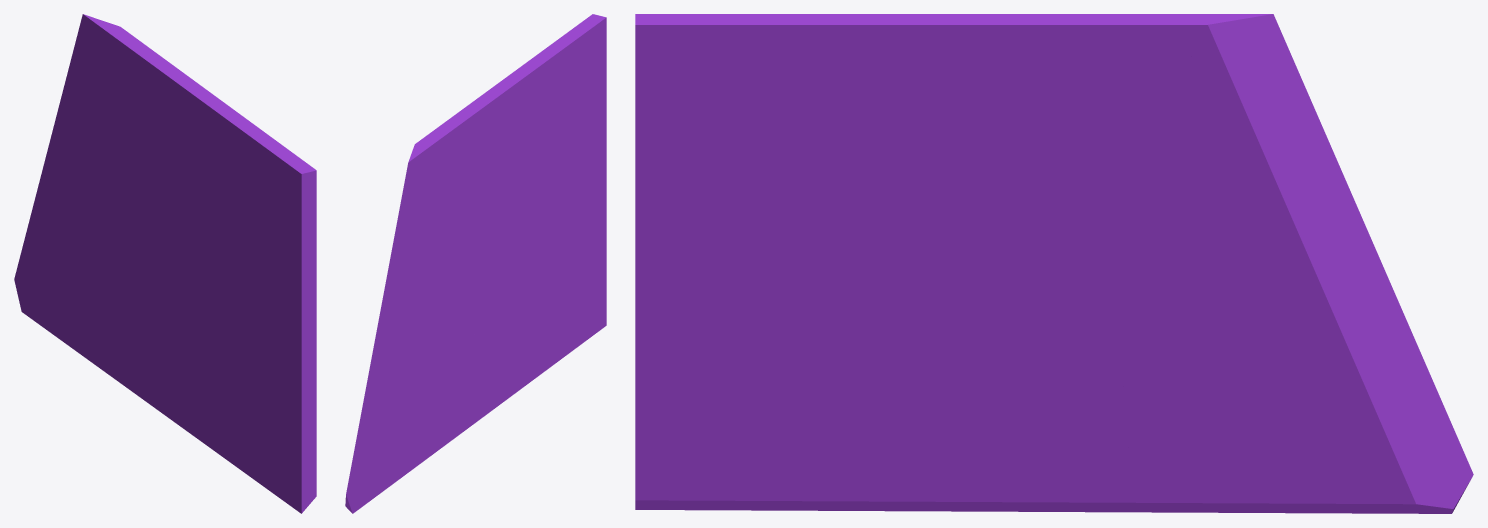
The model's file is Glass_66_2_chunks.fbx.
The picture shows the model from 3 angles, left to right: view 1: azimuth 30°, elevation 25°; view 2: azimuth 150°, elevation 25°; view 3: azimuth 270°, elevation 25°; orthographic projection. The views are drawn at different scales.
Parts seen in each view (by area): view 1: Glass_66_2_8, Glass_66_2_5, Glass_66_2_6, Glass_66_2_11, Glass_66_2_2, Glass_66_2_9, Glass_66_2_0, Glass_66_2_3, Glass_66_2_1, Glass_66_2_10, Glass_66_2_7; view 2: Glass_66_2_8, Glass_66_2_5, Glass_66_2_11, Glass_66_2_6, Glass_66_2_9, Glass_66_2_2, Glass_66_2_0, Glass_66_2_3, Glass_66_2_1, Glass_66_2_10, Glass_66_2_7; view 3: Glass_66_2_8, Glass_66_2_5, Glass_66_2_11, Glass_66_2_6, Glass_66_2_9, Glass_66_2_3, Glass_66_2_2, Glass_66_2_10, Glass_66_2_1, Glass_66_2_4, Glass_66_2_0, Glass_66_2_12.
Part boxes in pixels (<box>): Glass_66_2_8: <box>159,64,316,283</box>; Glass_66_2_5: <box>102,27,198,287</box>; Glass_66_2_6: <box>177,231,316,384</box>; Glass_66_2_11: <box>45,14,131,217</box>; Glass_66_2_2: <box>168,364,316,513</box>; Glass_66_2_9: <box>14,161,95,341</box>; Glass_66_2_0: <box>63,253,157,405</box>; Glass_66_2_3: <box>199,306,316,449</box>; Glass_66_2_1: <box>151,273,210,412</box>; Glass_66_2_10: <box>88,183,145,305</box>; Glass_66_2_7: <box>197,204,253,253</box>; Glass_66_2_8: <box>461,14,606,181</box>; Glass_66_2_5: <box>416,110,513,297</box>; Glass_66_2_11: <box>374,144,452,346</box>; Glass_66_2_6: <box>494,117,606,284</box>; Glass_66_2_9: <box>345,340,420,513</box>; Glass_66_2_2: <box>486,267,606,414</box>; Glass_66_2_0: <box>391,295,476,485</box>; Glass_66_2_3: <box>514,209,606,310</box>; Glass_66_2_1: <box>470,272,523,425</box>; Glass_66_2_10: <box>413,251,464,409</box>; Glass_66_2_7: <box>512,152,563,204</box>; Glass_66_2_8: <box>635,14,1058,200</box>; Glass_66_2_5: <box>931,14,1215,309</box>; Glass_66_2_11: <box>1123,14,1384,306</box>; Glass_66_2_6: <box>635,185,994,318</box>; Glass_66_2_9: <box>1235,269,1473,513</box>; Glass_66_2_3: <box>635,310,954,431</box>; Glass_66_2_2: <box>635,405,1023,511</box>; Glass_66_2_10: <box>1080,211,1257,474</box>; Glass_66_2_1: <box>930,307,1130,511</box>; Glass_66_2_4: <box>897,367,1133,511</box>; Glass_66_2_0: <box>1074,372,1328,513</box>; Glass_66_2_12: <box>1249,295,1336,362</box>.
Bounding box in the file's own units: 27.2 × 584 × 888.
